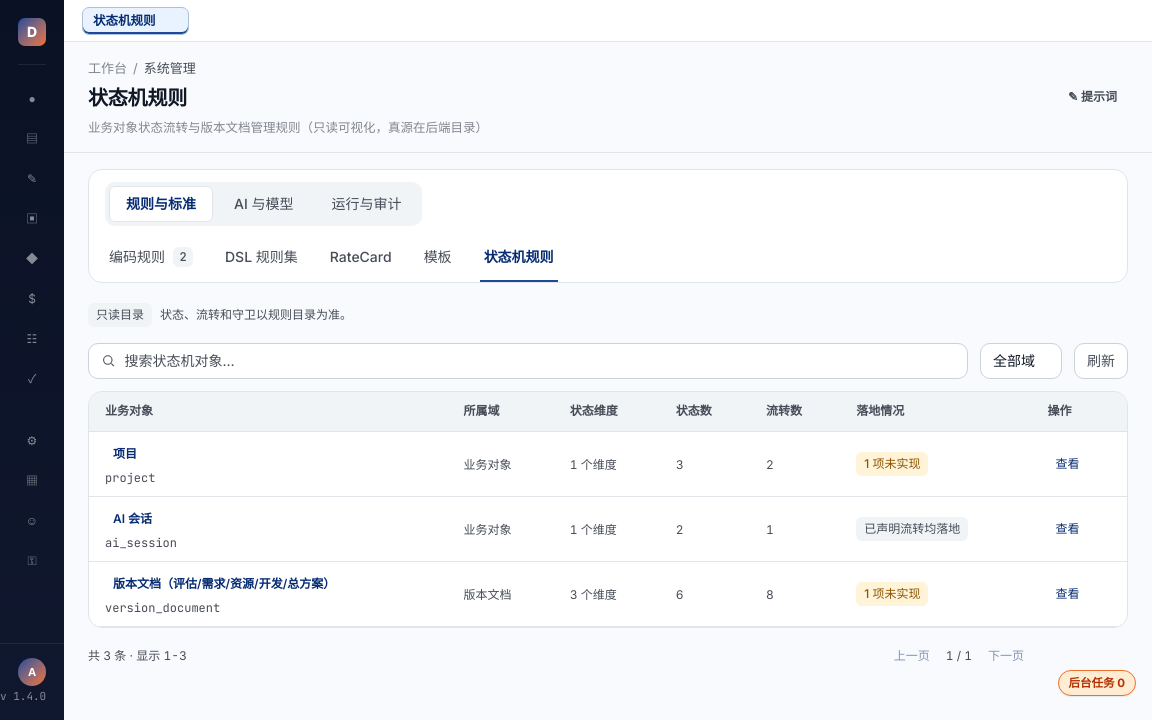
Scenario: 系统管理 · 状态机规则可视化页 › 版本文档详情保留三轴、六动作与全部守卫
The image size is (1152, 720).
Expected: the table named "状态机对象列表" is shown, [89, 392, 1127, 627]
What coordinates should you click on to do the following:
click the button with aria-label "查看 版本文档（评估/需求/资源/开发/总方案）"
I would click on:
 (1067, 594)
Its box is [1047, 578, 1087, 610].
(page scrolled)
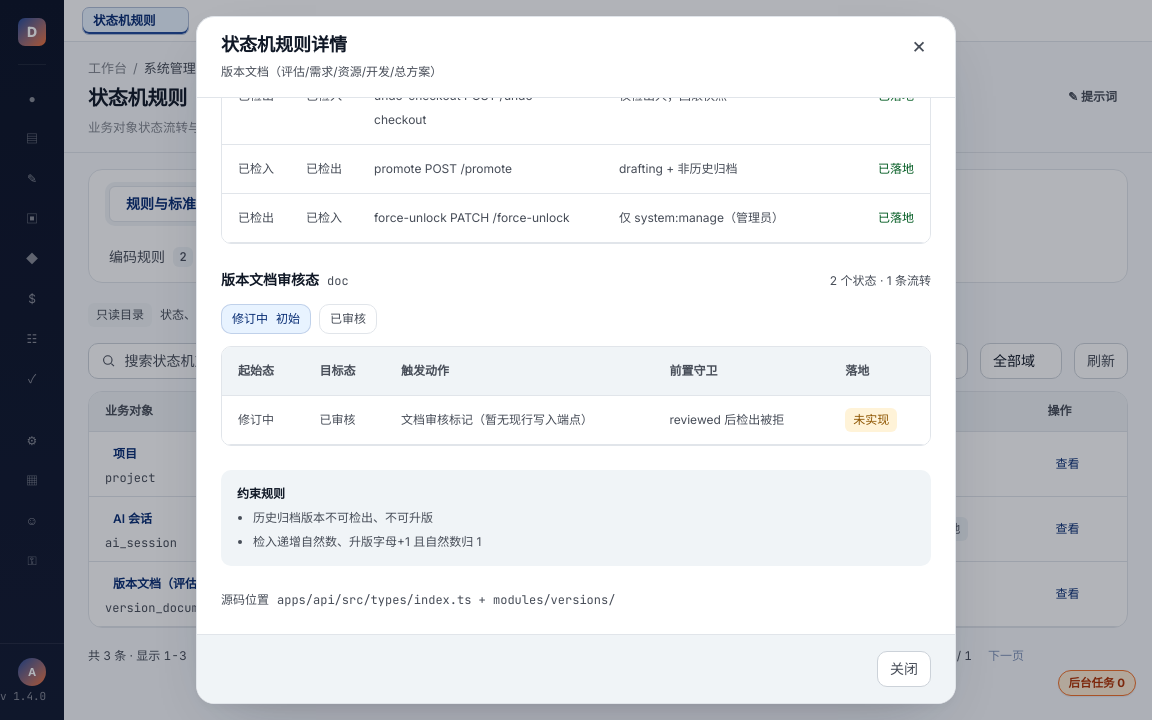
Result: the heading "版本文档审核态" is shown at [221, 268, 319, 292]
Result: the text "undo-checkout POST /undo-checkout" is shown at [358, 98, 603, 145]
Result: the text "promote POST /promote" is shown at [358, 145, 603, 194]
